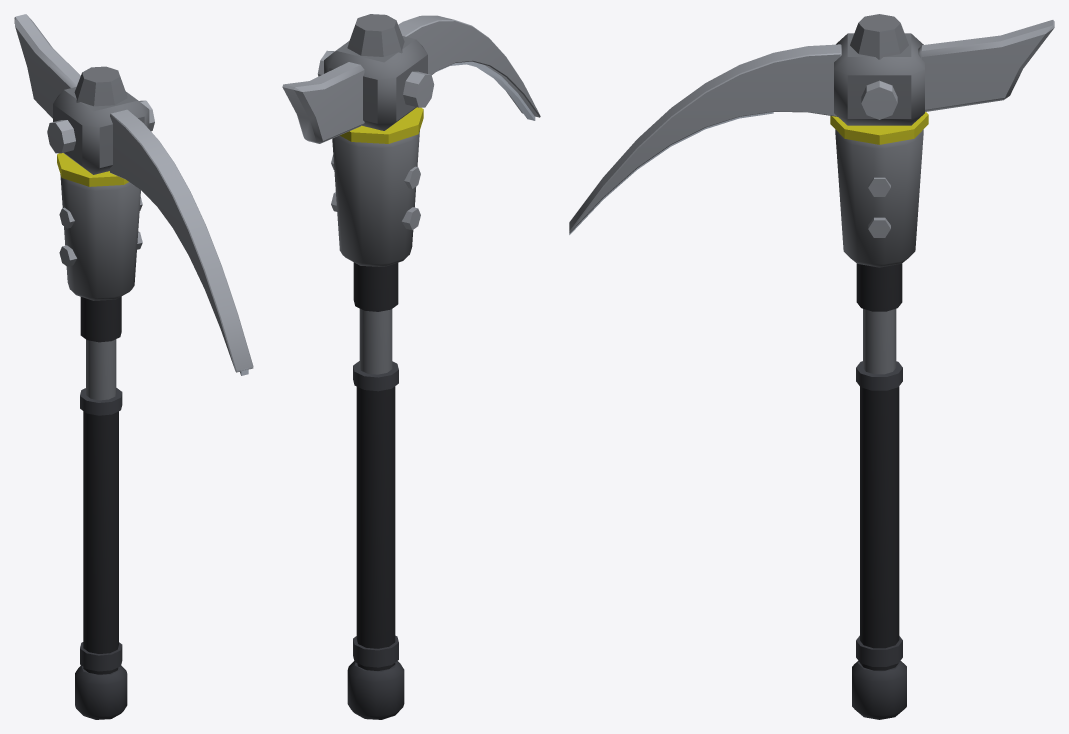
File: pickaxe.glb
3 renders of one model, left to right at view 1: azimuth 30°, elevation 25°; view 2: azimuth 150°, elevation 25°; view 3: azimuth 270°, elevation 25°, orthographic. The views are drawn at different scales.
Visible parts, largest first — view 1: pickaxe_head, pickaxe_handle; view 2: pickaxe_head, pickaxe_handle; view 3: pickaxe_head, pickaxe_handle.
Part boxes in pixels (bbox=[...]): pickaxe_head: bbox=[14, 14, 253, 375]; pickaxe_handle: bbox=[75, 296, 127, 719]; pickaxe_head: bbox=[282, 14, 540, 266]; pickaxe_handle: bbox=[347, 262, 404, 719]; pickaxe_head: bbox=[569, 14, 1054, 267]; pickaxe_handle: bbox=[852, 263, 906, 719].
Size of the model in its own units: 0.15 by 1 by 0.6416.
